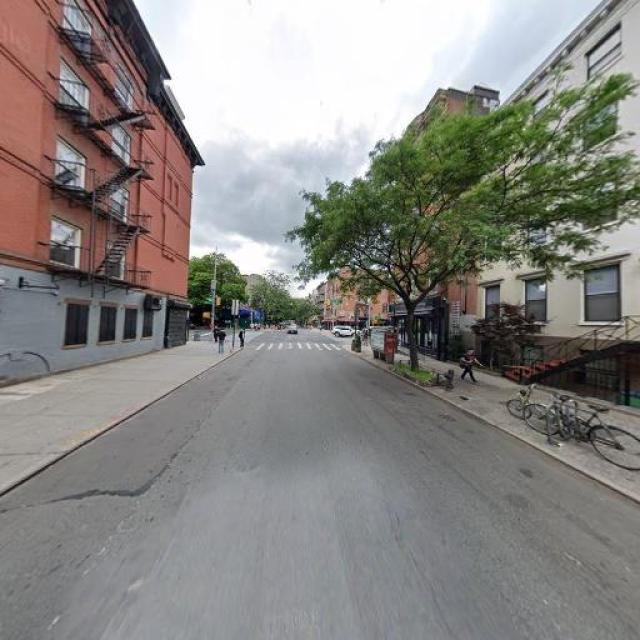Building: (1, 1, 185, 390), (488, 1, 640, 417)
